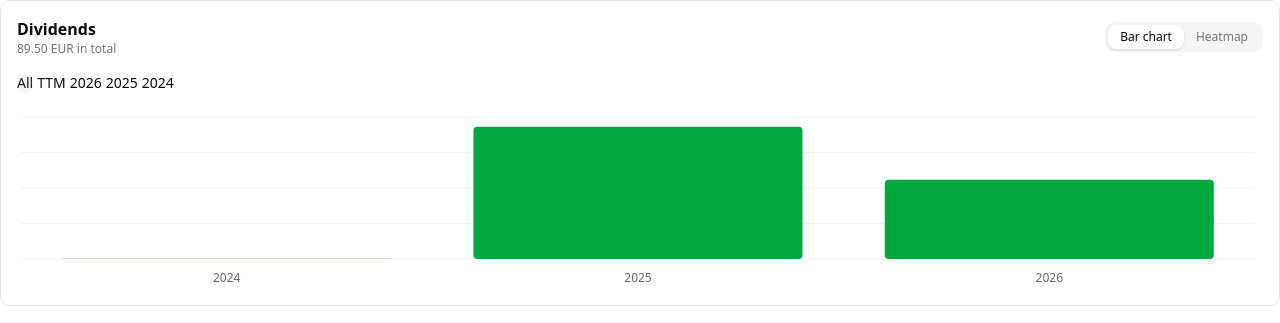
Test: DividendsCard › narrows the total to the year that is picked
Step 1. Click the button "2025" → (122,83), box [106,73,138,93]
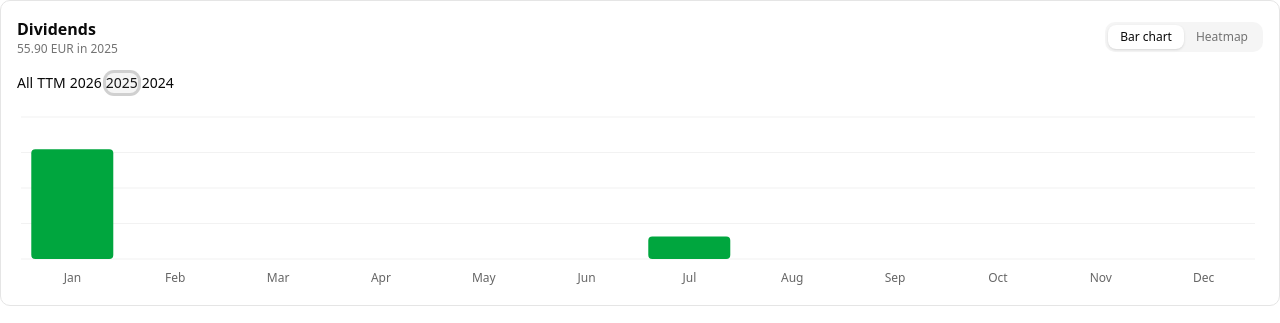
Check: the text "55.90 EUR in 2025" is shown, box [17,41,118,57]
